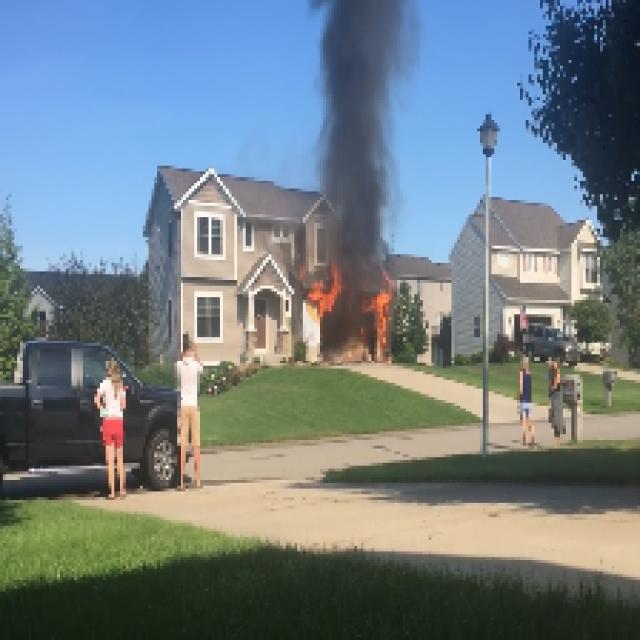Fire: (369, 277, 397, 337), (306, 268, 343, 312)
Smoke: (311, 3, 420, 260)
